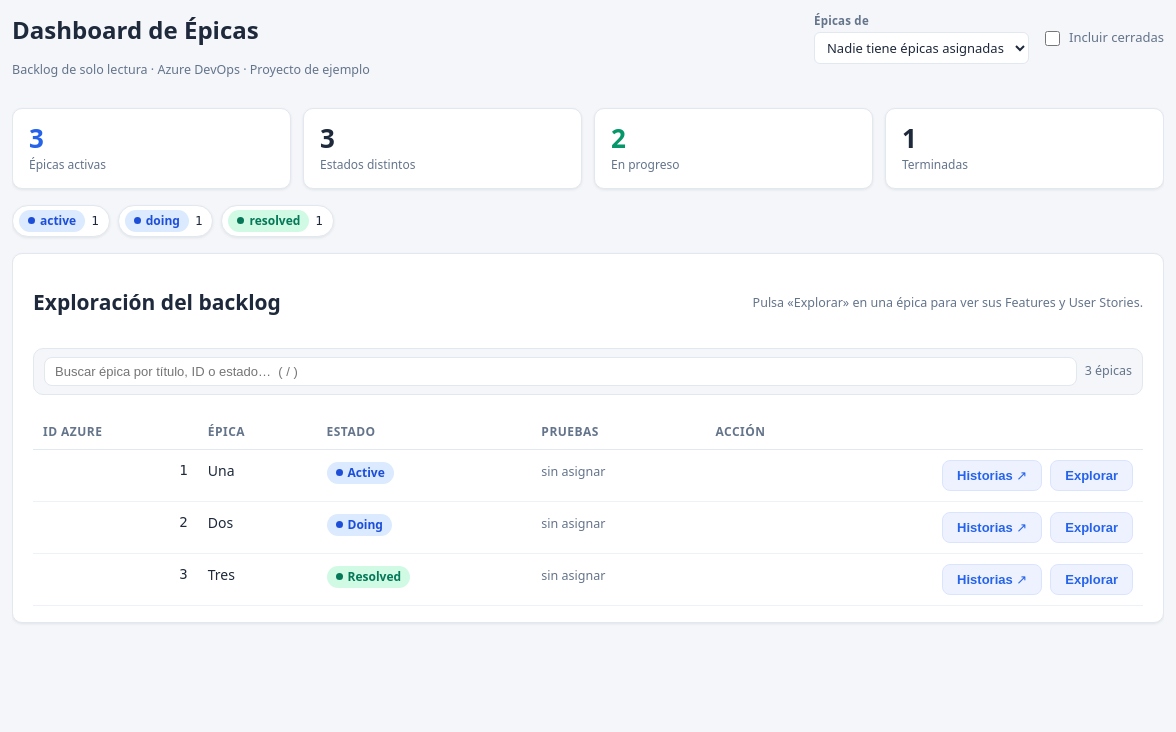
Test case: Buscador de épicas › muestra un aviso cuando nada coincide
Check: the text "Una" is shown, box [198,450,316,502]
Type "inexistente" into the search field labelled "Buscar épica por título, ID o estado… ( / )" at (560, 372), box [44,357,1077,386]
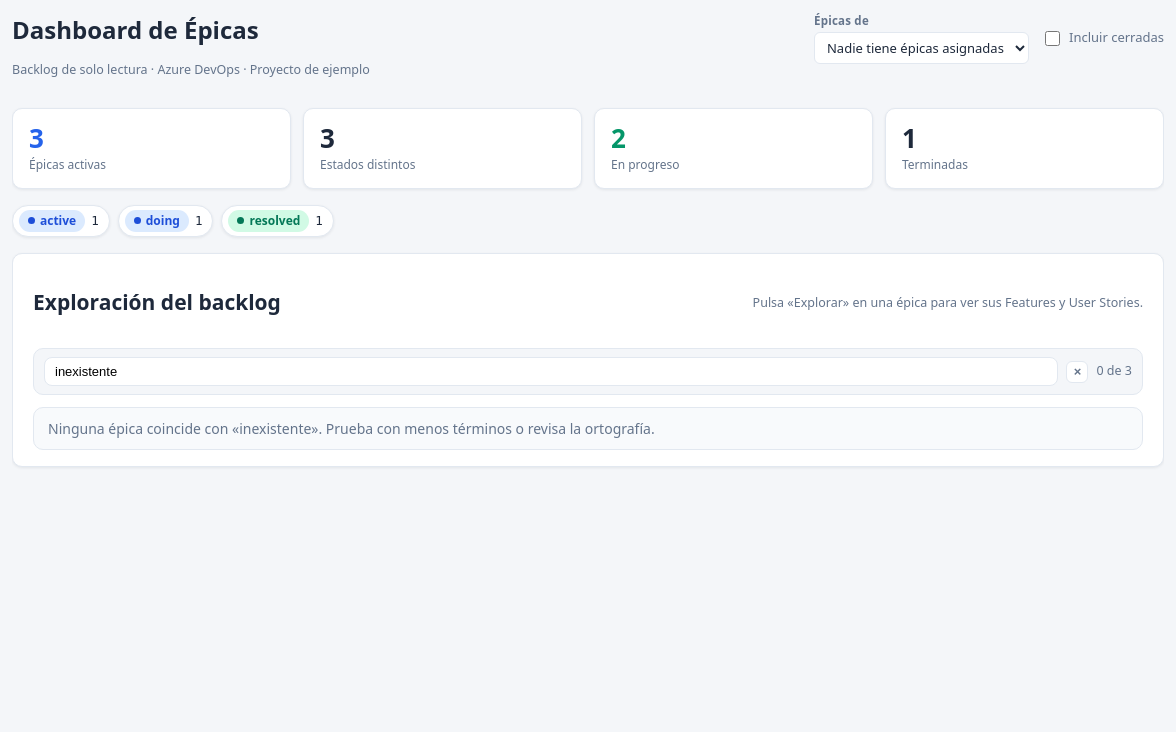
Check: the text "Ninguna épica coincide" is shown, box [48,419,655,438]
